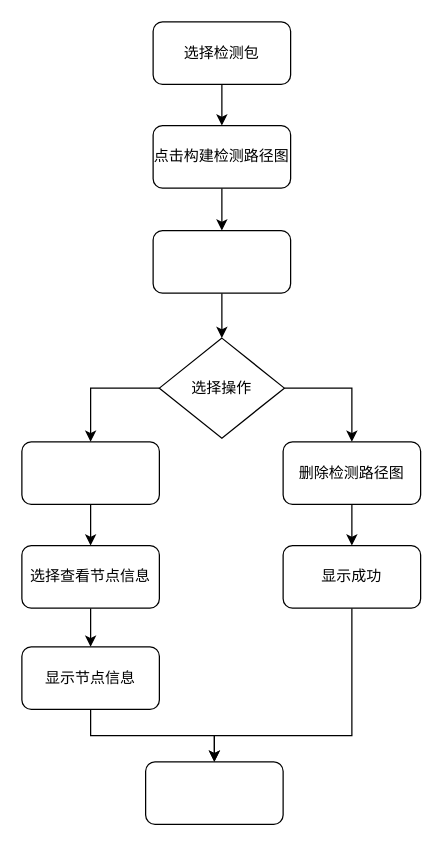
Image size: 443x846. Some labels were removed from this diagram. The centre of each missing label's shape, as x and y in pixels:
查看检测路径图信息: pixel 90 472
生成检测路径图: pixel 221 261
结束: pixel 213 792
